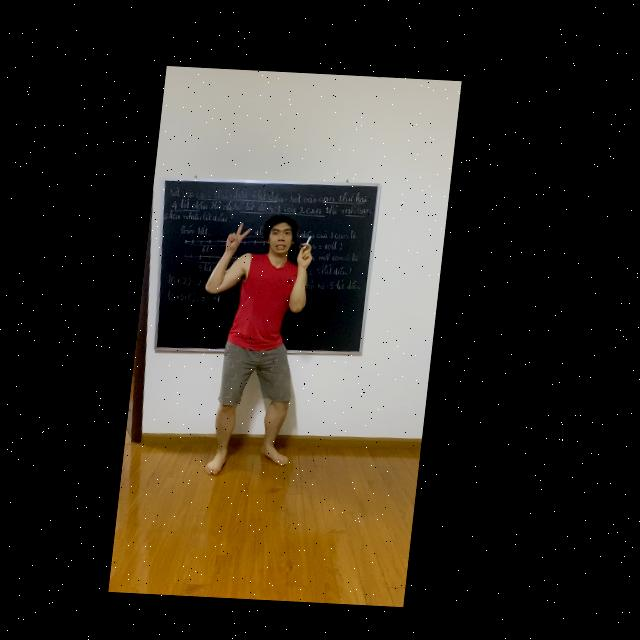cigarette: (309, 232, 316, 245)
